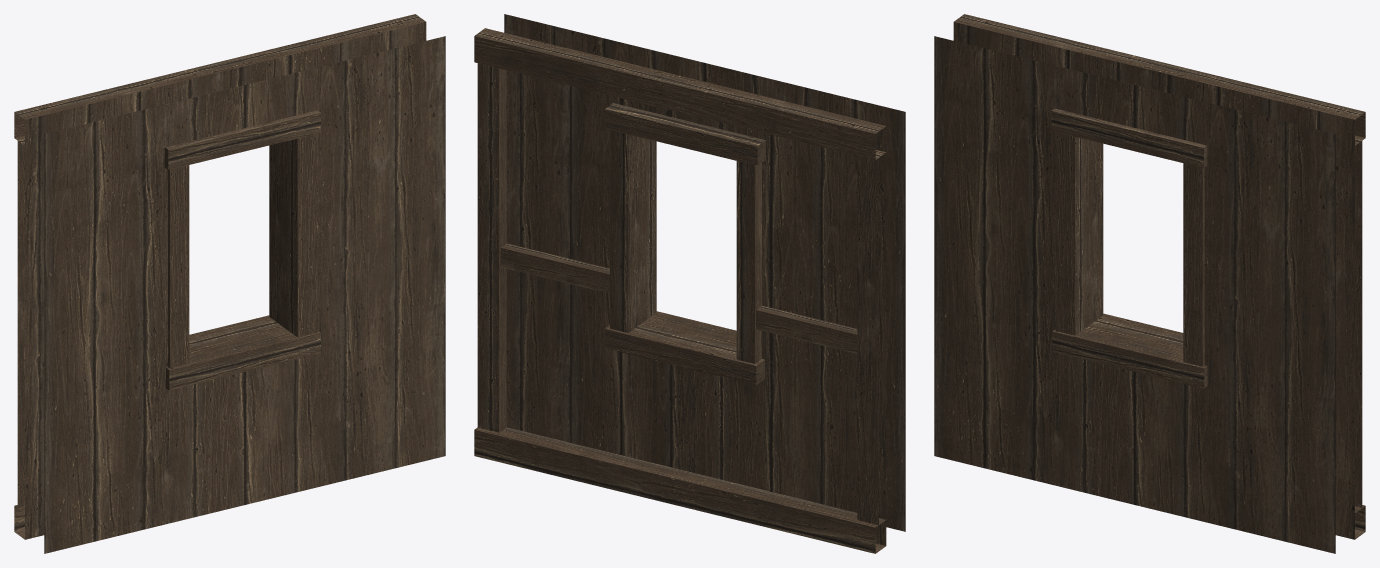
Rendered from ARC1010332.fbx.
3 views of the same model, side by side, from view 1: azimuth 30°, elevation 25°; view 2: azimuth 150°, elevation 25°; view 3: azimuth 330°, elevation 25° (orthographic).
Visible parts, largest first — view 1: smARC1010332; view 2: smARC1010332; view 3: smARC1010332.
Boxes of the visible parts, x1,y1,x2,y2 form: smARC1010332: (14,14,445,553); smARC1010332: (474,14,905,553); smARC1010332: (934,14,1365,553).
Size of the model in its own units: 268 by 268 by 38.82.
Materials: 1 (1 with a texture image).
